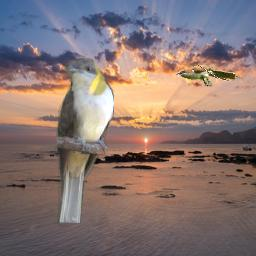Cuckoo: (54, 58, 114, 223), (176, 65, 239, 87)
